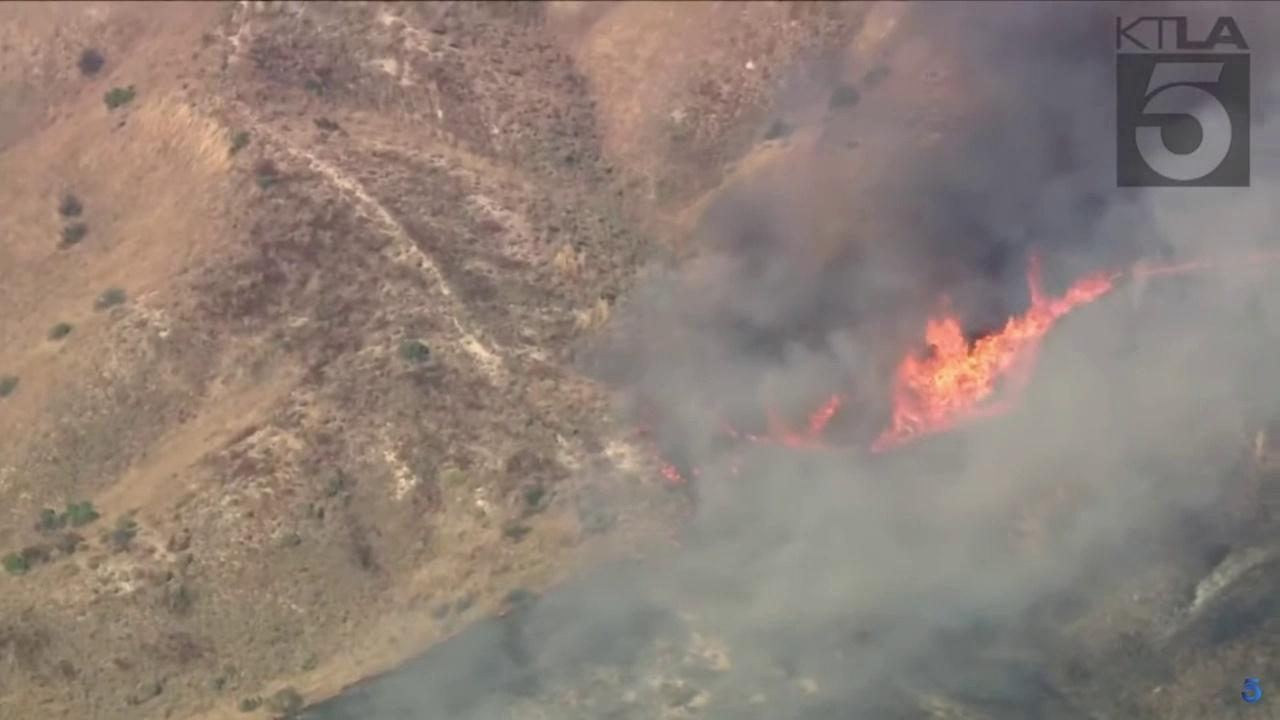fire: (869, 246, 1123, 455), (745, 392, 850, 454), (646, 440, 687, 483), (1136, 259, 1199, 277), (716, 419, 738, 435), (691, 465, 701, 477), (732, 467, 741, 479)
smoke: (290, 0, 1280, 720)
